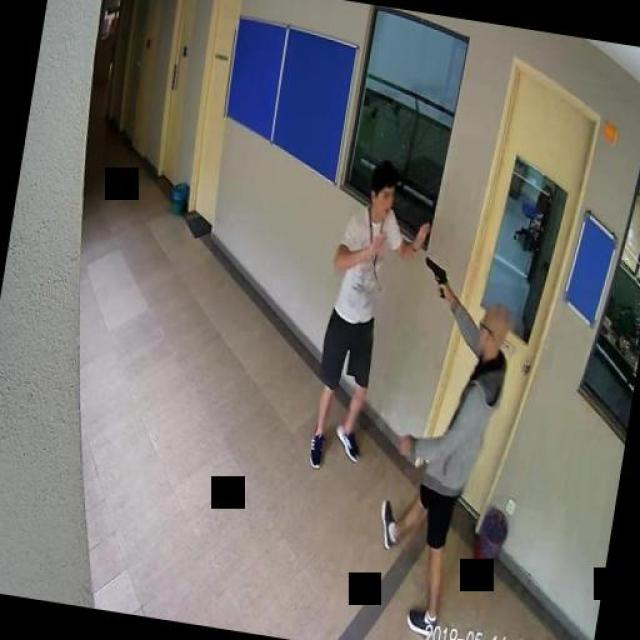gun: (420, 254, 450, 298)
